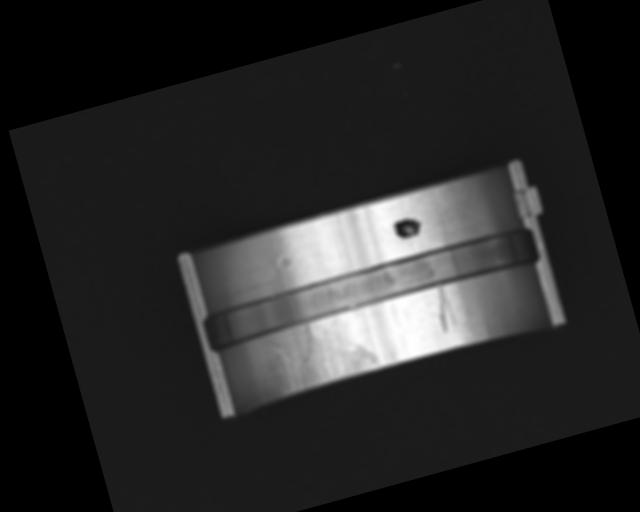blot: (391, 215, 424, 242)
bruise: (275, 252, 294, 275)
gap: (200, 224, 541, 352)
nick: (429, 281, 458, 334)
scratch: (258, 305, 381, 400)
